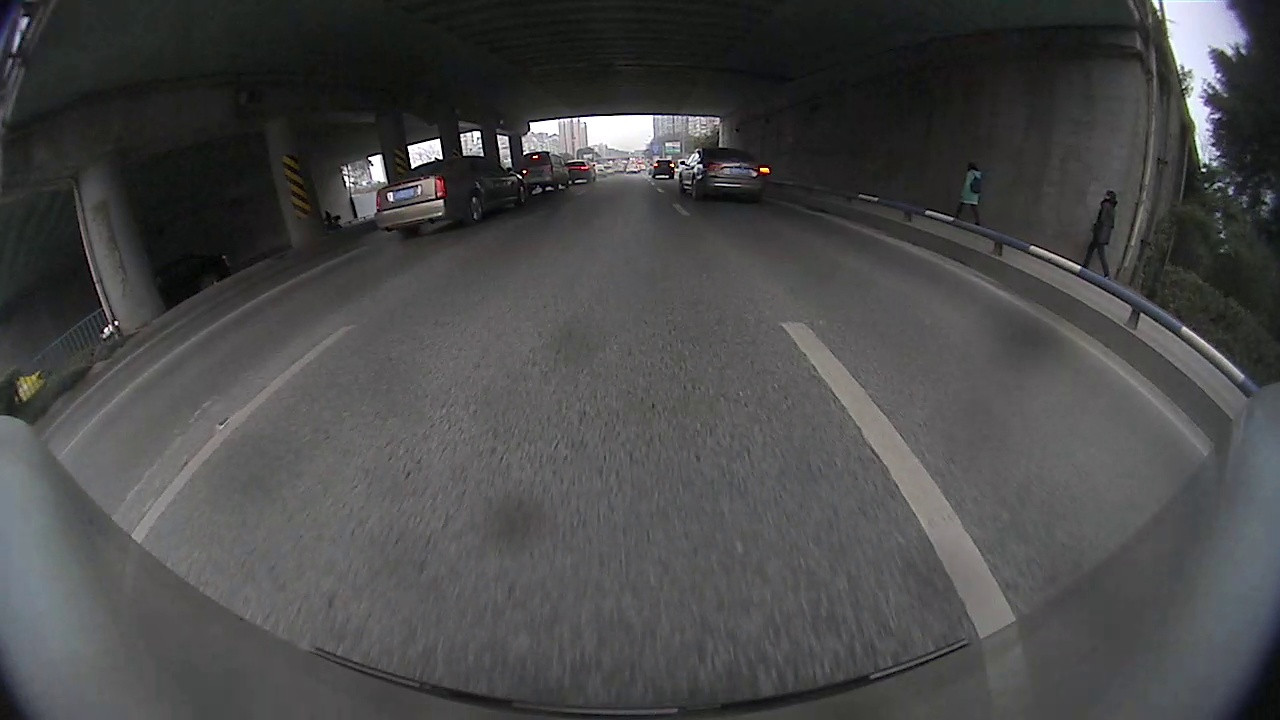car: (373, 154, 530, 241), (676, 145, 768, 205), (150, 247, 234, 312), (518, 149, 573, 193)
person: (1098, 189, 1117, 282), (963, 159, 981, 227)
rear: (469, 189, 486, 224)
rider: (321, 208, 343, 231)
